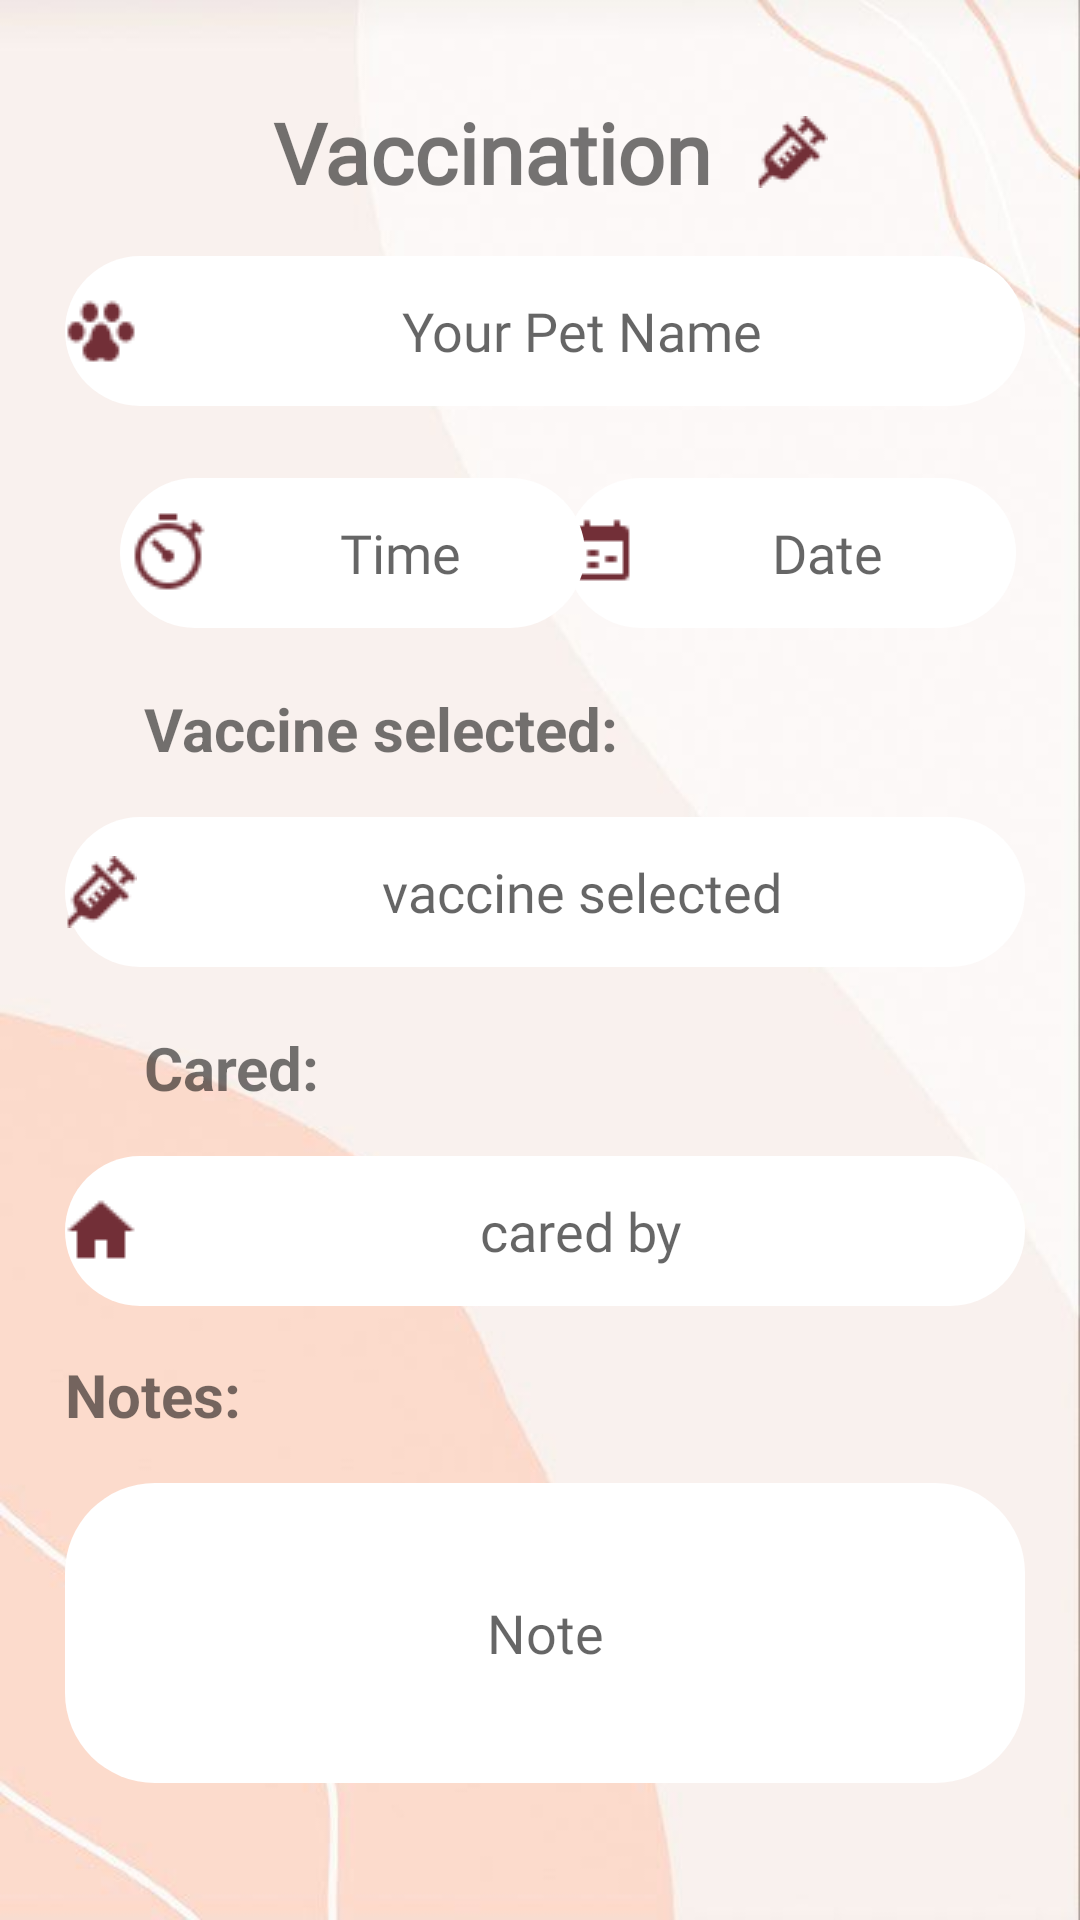

Where icons sit on this 1080px×1920px app screen, as (x1, y1, x2, y2):
syringe: (758, 116, 828, 188)
